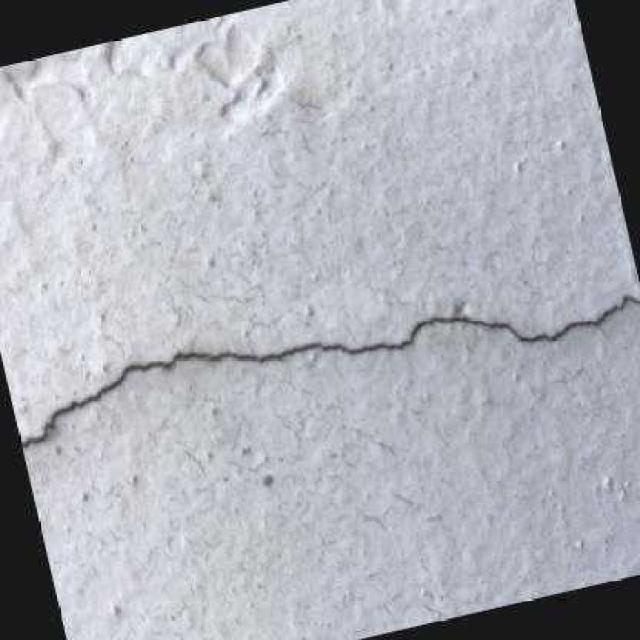D00: (19, 292, 640, 451)
